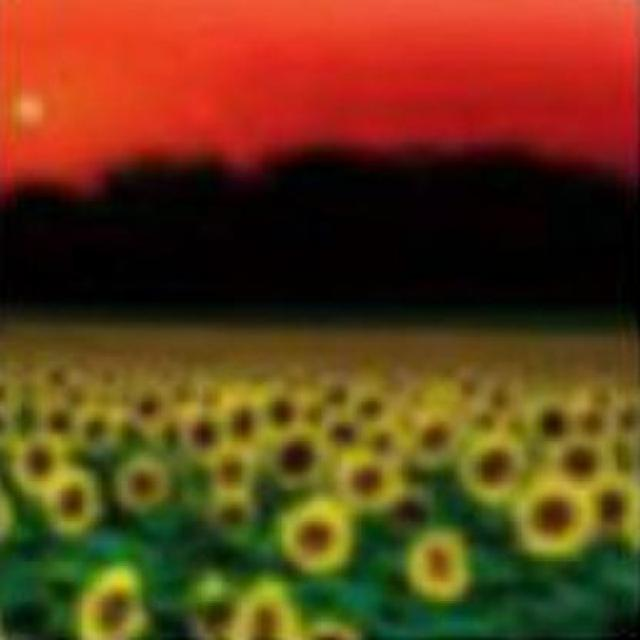sunflower: (507, 472, 604, 567), (270, 492, 365, 580), (403, 522, 475, 604), (44, 470, 104, 538)
